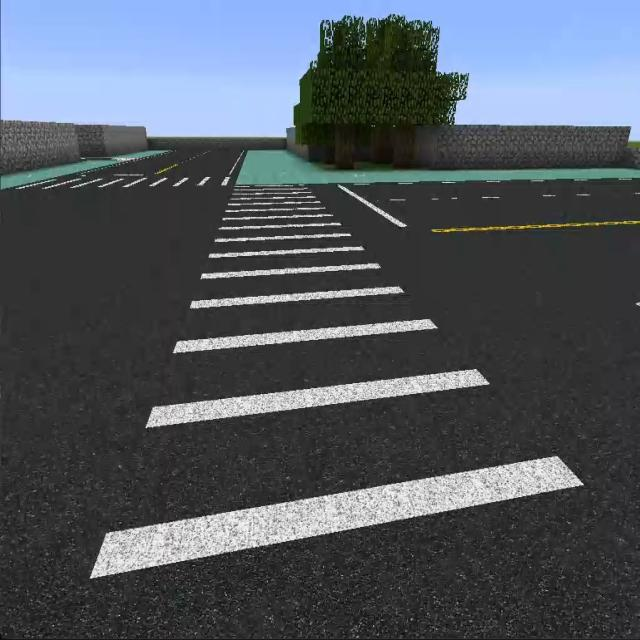crosswalk: (68, 187, 639, 630), (9, 172, 234, 197)
road: (4, 197, 219, 634), (334, 177, 636, 454), (85, 152, 244, 172)
sidewalk: (238, 149, 639, 182), (0, 151, 170, 189)
